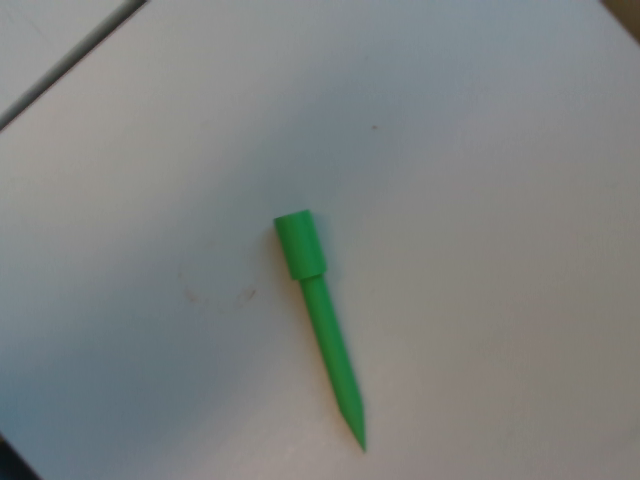Probe: (270, 204, 373, 459)
